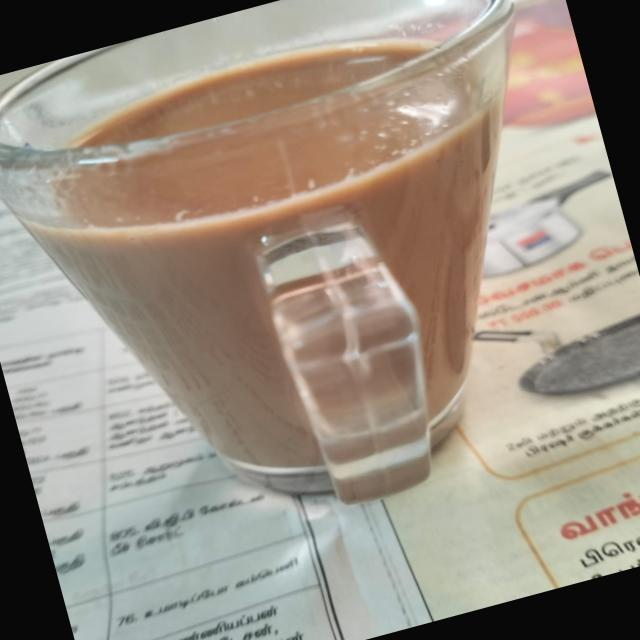glass-VX4N: (0, 0, 627, 576)
